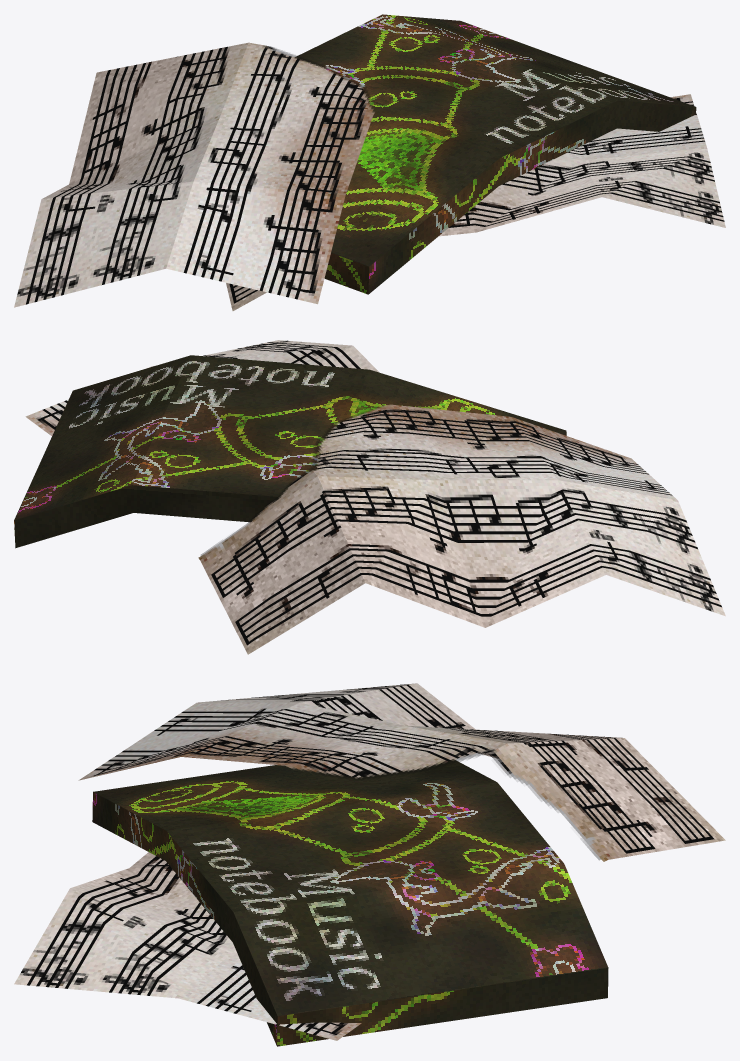
File: sheet-music.glb
3 views of the same model, one above another, from view 1: azimuth 30°, elevation 25°; view 2: azimuth 150°, elevation 25°; view 3: azimuth 270°, elevation 25° (orthographic). The views are drawn at different scales.
Visible parts, largest first — view 1: Top page, Middle, Bottom page; view 2: Top page, Middle, Bottom page; view 3: Middle, Top page, Bottom page.
Part boxes in pixels (x1,y1,x2,y2): Top page: [14, 42, 374, 307]; Middle: [294, 14, 696, 294]; Bottom page: [226, 94, 725, 310]; Top page: [198, 404, 725, 654]; Middle: [14, 355, 566, 548]; Bottom page: [25, 340, 379, 435]; Middle: [92, 759, 608, 1046]; Top page: [78, 683, 725, 861]; Bottom page: [14, 852, 361, 1040].
Bounding box in the file's own units: 1.7 × 0.3536 × 1.36.
2 materials, 2 textured.
